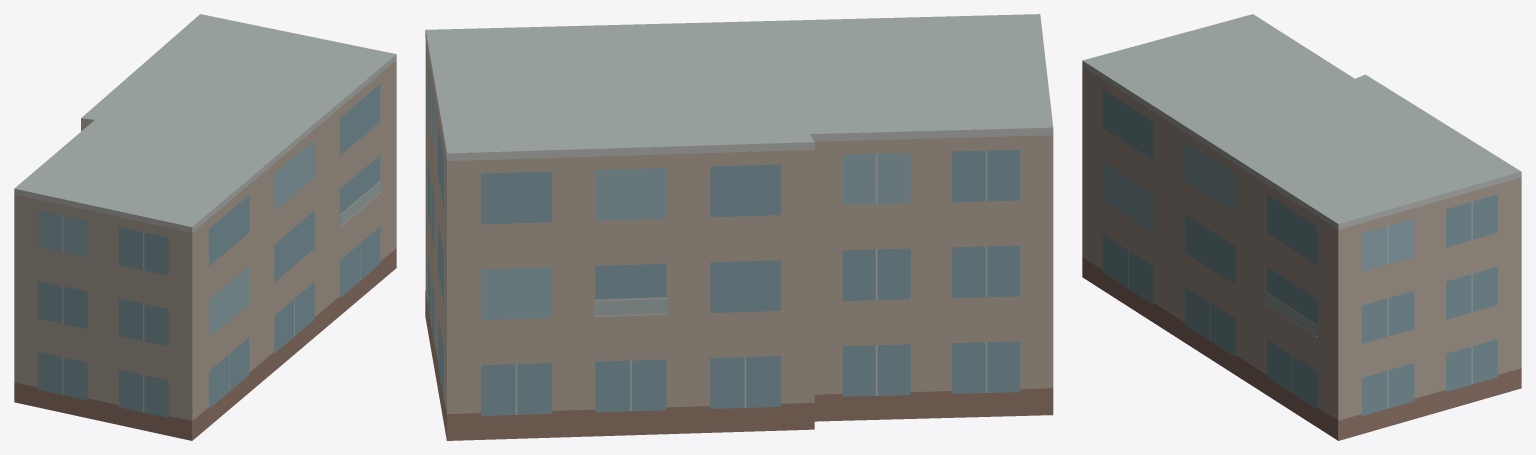
Rendered from survey-upis-32773215.glb.
The picture shows the model from 3 angles, left to right: view 1: azimuth 30°, elevation 25°; view 2: azimuth 150°, elevation 25°; view 3: azimuth 270°, elevation 25°; orthographic projection. The views are drawn at different scales.
Visible parts, largest first — view 1: survey-upis-32773215.tmp; view 2: survey-upis-32773215.tmp; view 3: survey-upis-32773215.tmp.
Boxes of the visible parts, x1,y1,x2,y2 form: survey-upis-32773215.tmp: (14, 14, 396, 440); survey-upis-32773215.tmp: (425, 14, 1053, 440); survey-upis-32773215.tmp: (1082, 14, 1521, 440).
Size of the model in its own units: 19.04 by 9.15 by 16.81.
